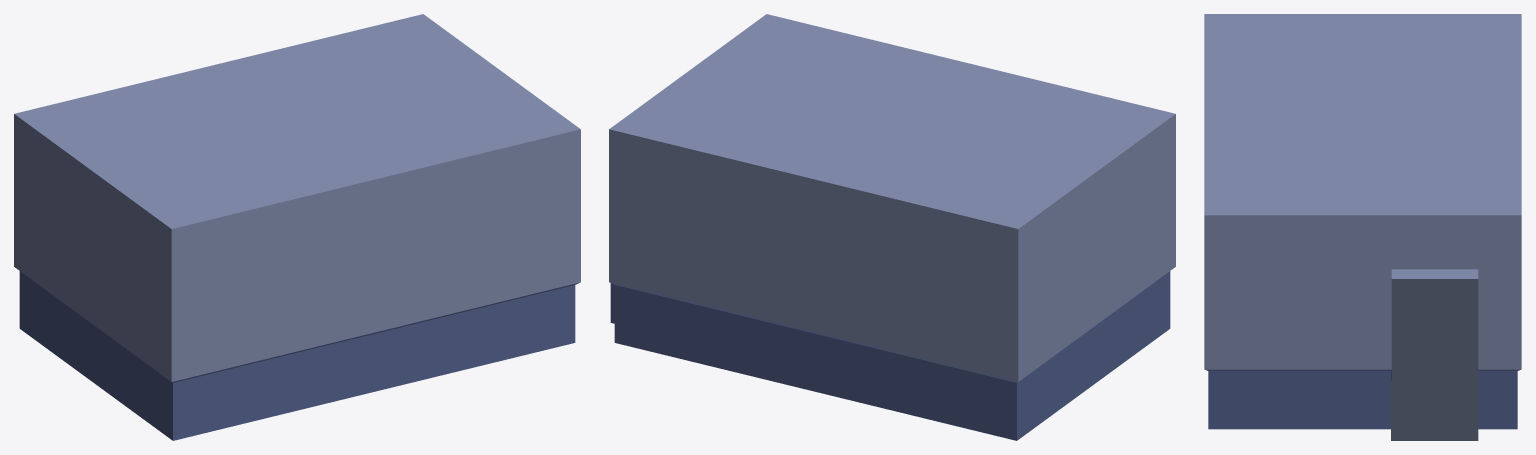
The model's file is room_test.glb.
3 renders of one model, left to right at view 1: azimuth 30°, elevation 25°; view 2: azimuth 150°, elevation 25°; view 3: azimuth 270°, elevation 25°, orthographic.
Visible parts, largest first — view 1: Cube; view 2: Cube; view 3: Cube.
Boxes of the visible parts, x1,y1,x2,y2 form: Cube: (14, 14, 580, 440); Cube: (609, 14, 1175, 440); Cube: (1204, 14, 1521, 440).
Size of the model in its own units: 6.29 by 3 by 4.
